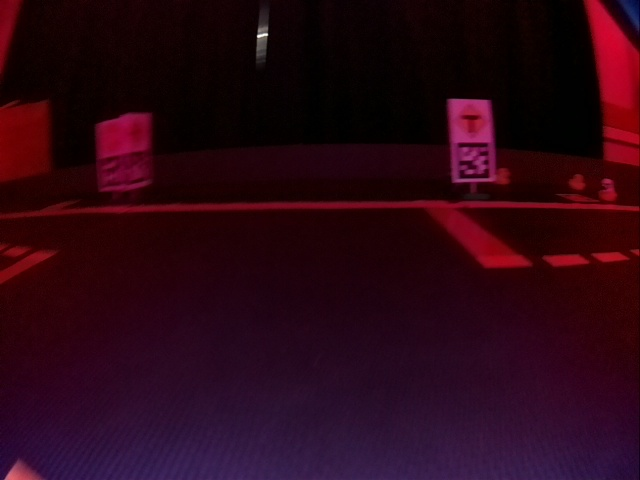Duckie: (599, 179, 616, 202), (569, 176, 585, 190), (496, 170, 511, 184)
Intersection sign: (454, 104, 485, 137), (124, 121, 149, 148)
QR code: (456, 143, 488, 178), (126, 151, 148, 186), (98, 156, 122, 186), (560, 194, 596, 203)
